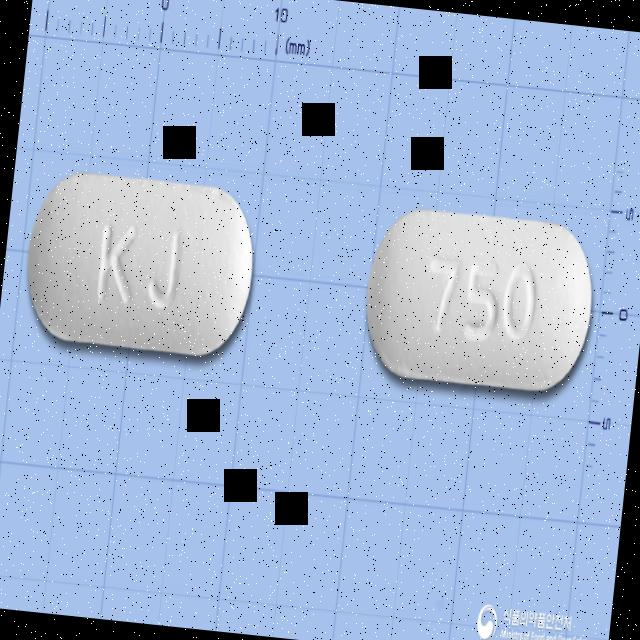Levocaxin: (19, 165, 263, 359), (359, 202, 600, 395)
